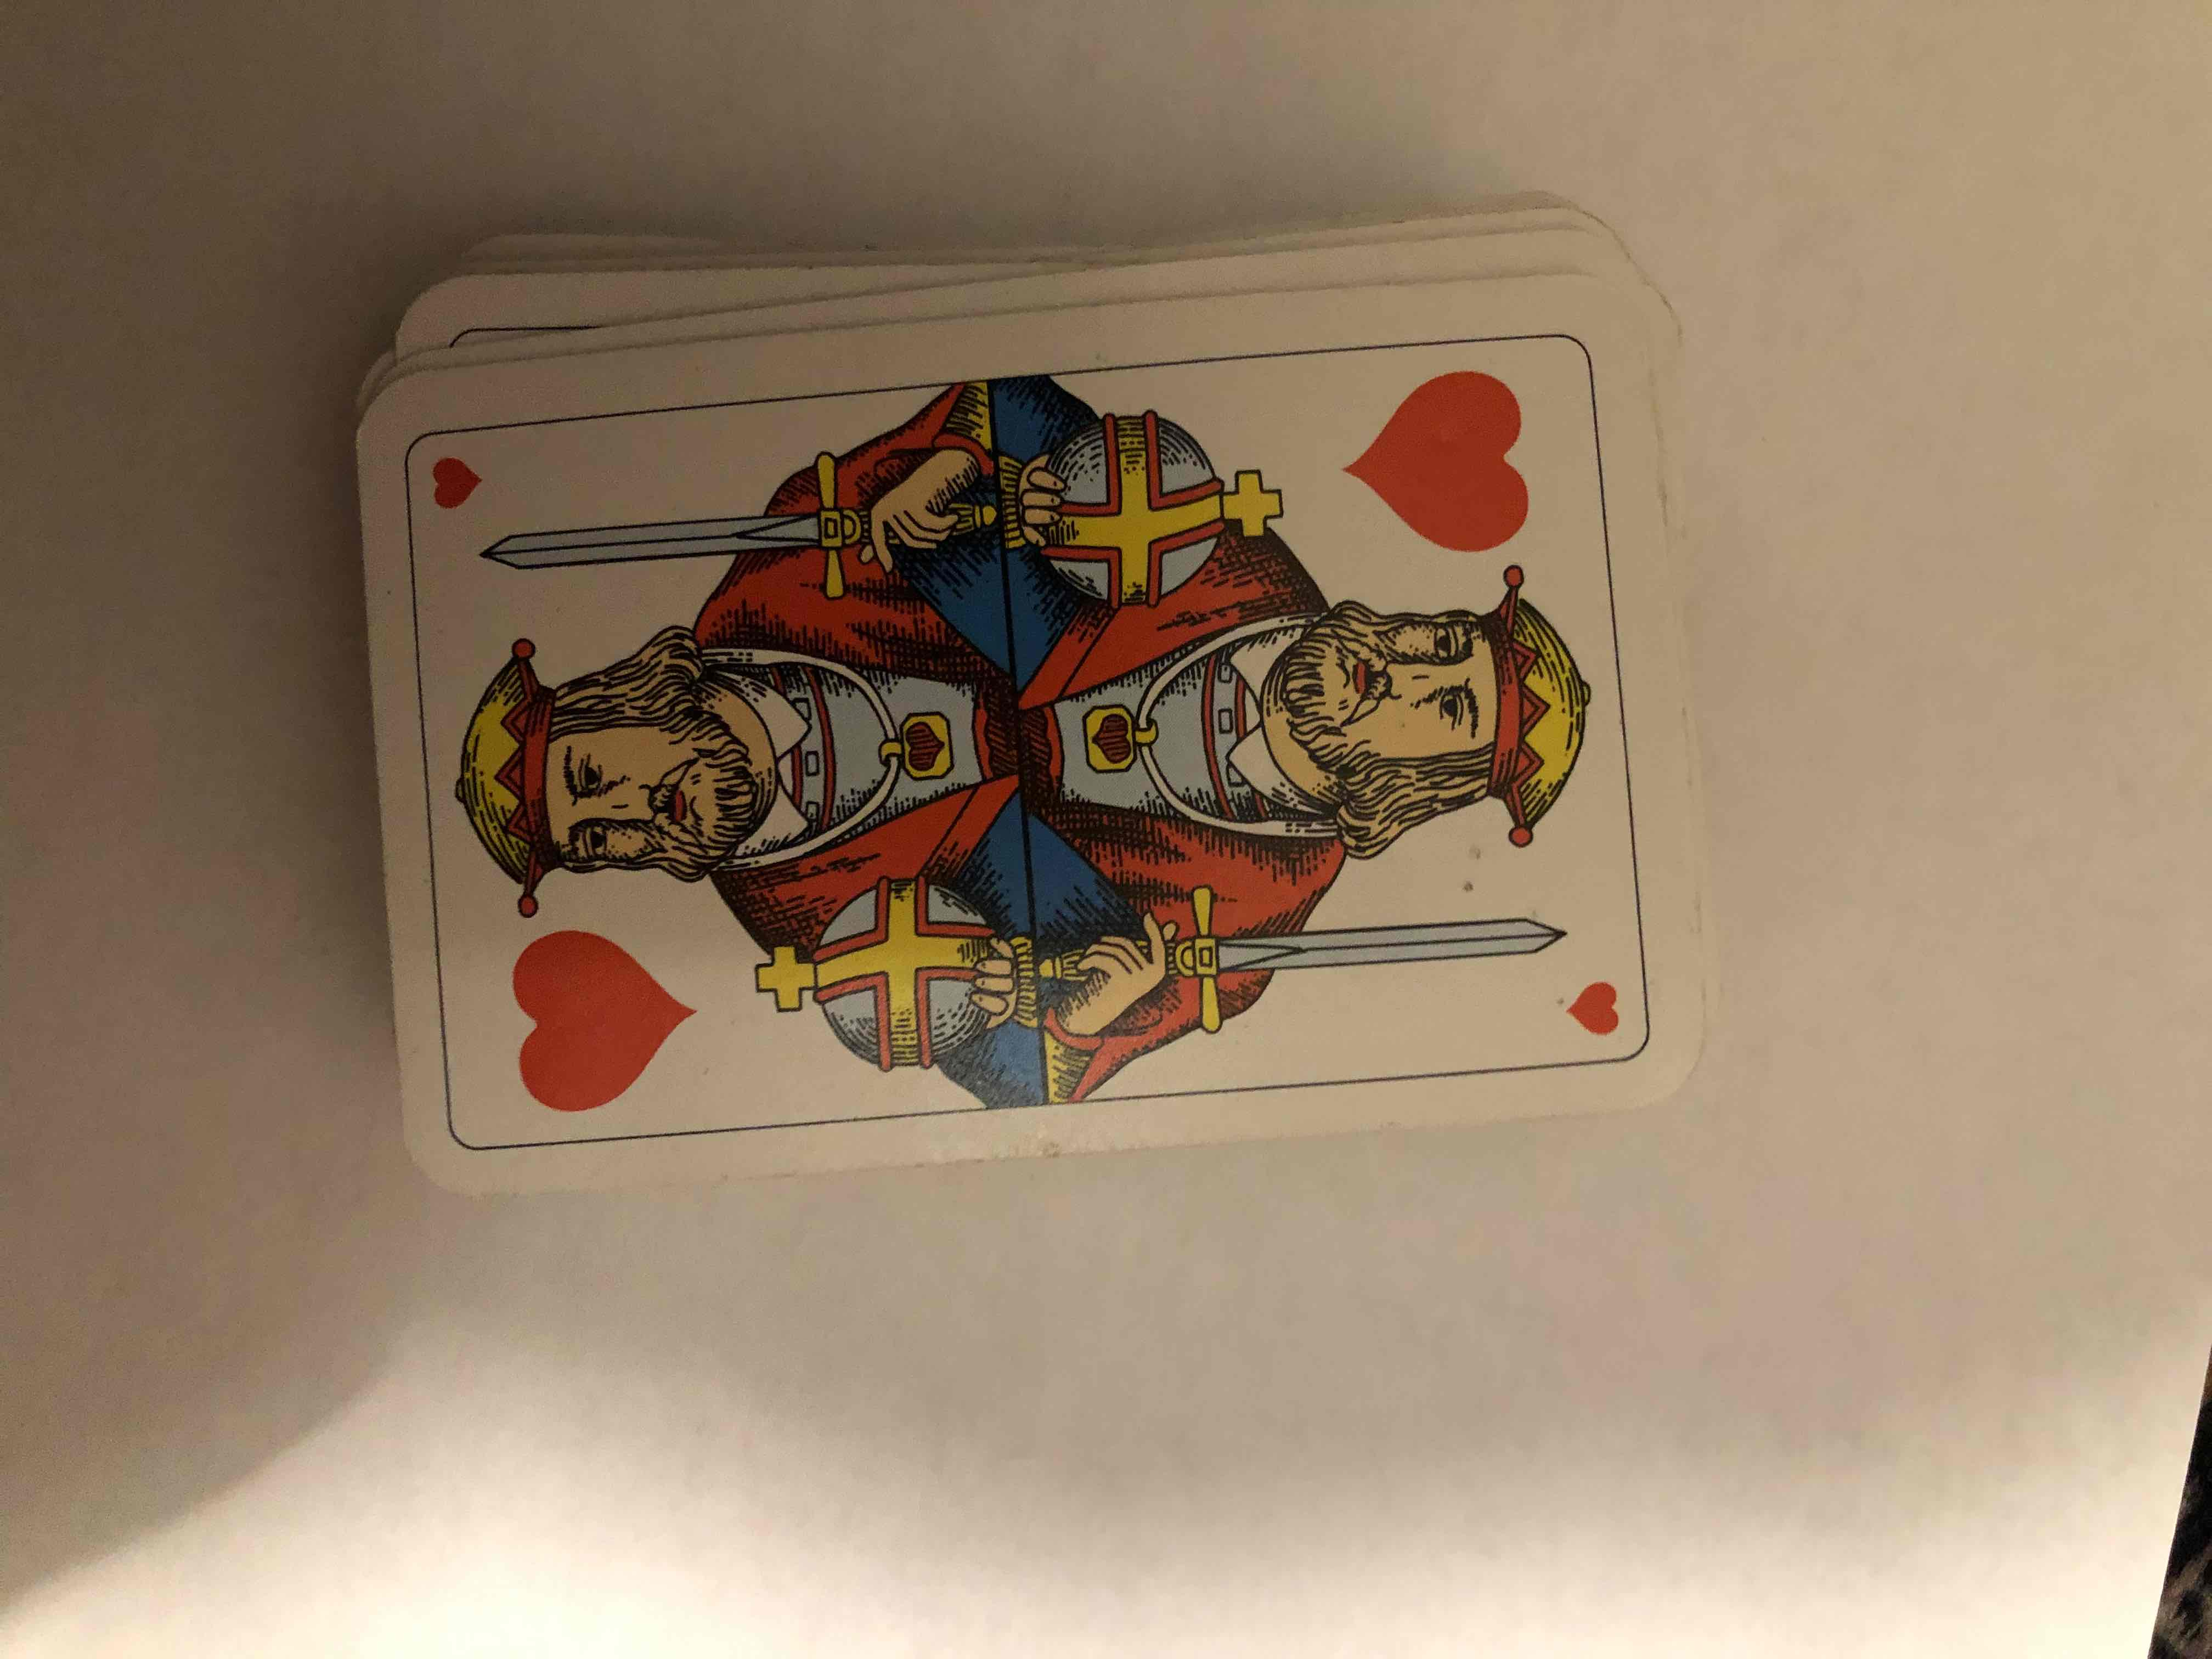heartsKing: (380, 272, 1707, 1148)
